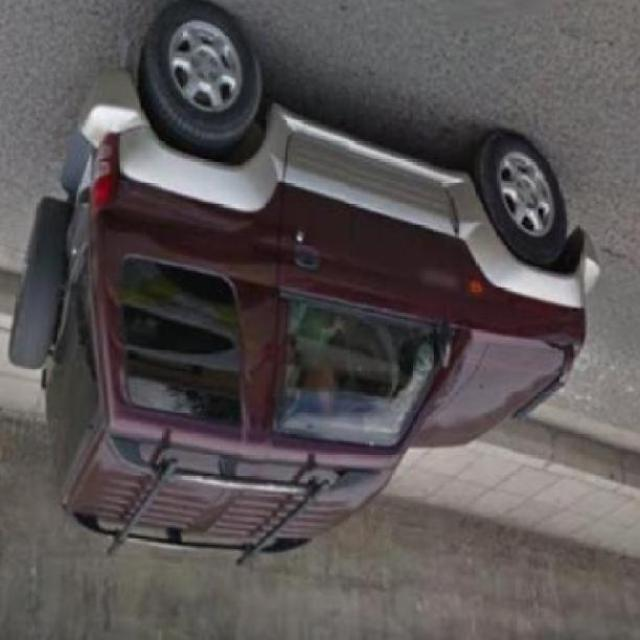car: (14, 6, 582, 546)
